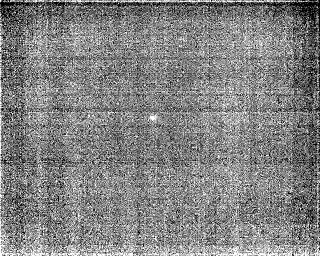BIRD: (147, 112, 159, 125)
